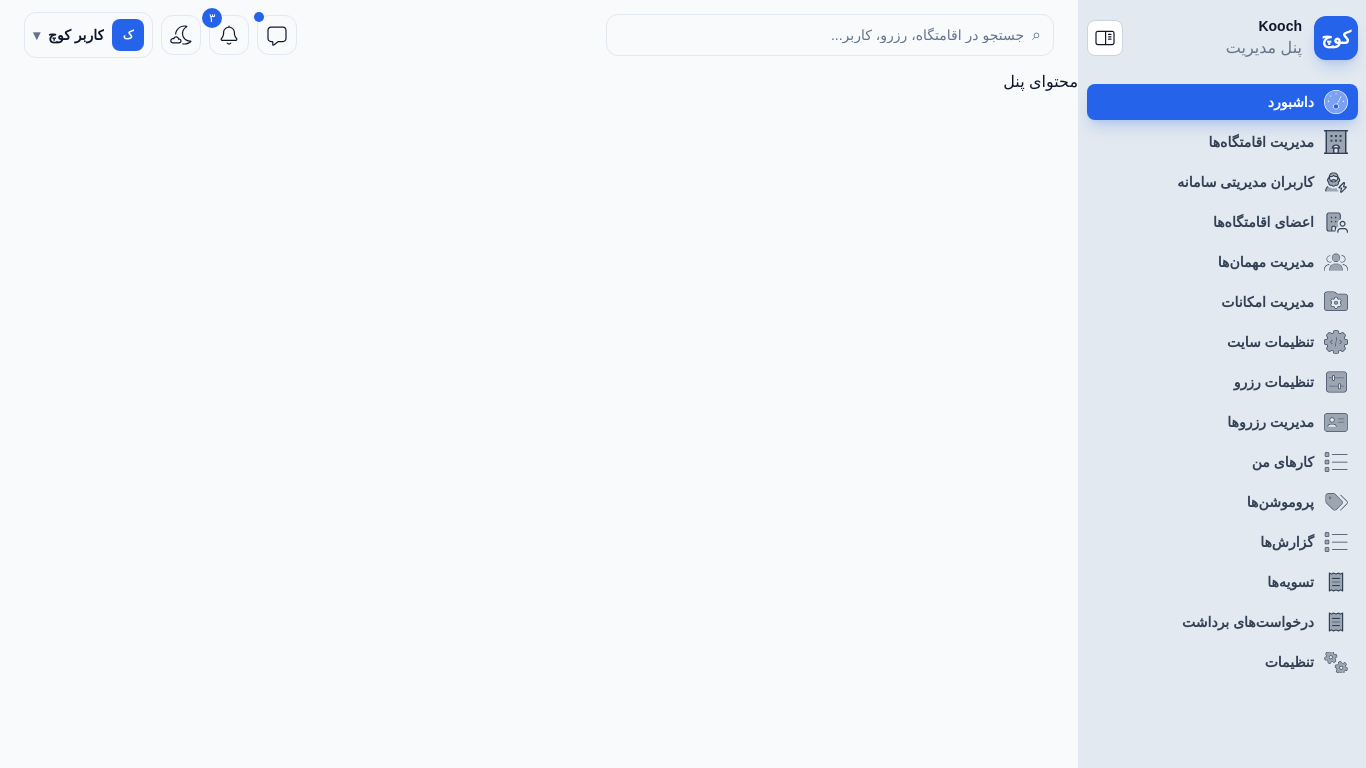
Dashboard notification inbox › loads authoritative unread count and first page, without mock content or deep links
This screenshot has width=1366, height=768.
Click the button named "اعلان‌ها" at (229, 35), box x1=209 y1=15 x2=249 y2=55
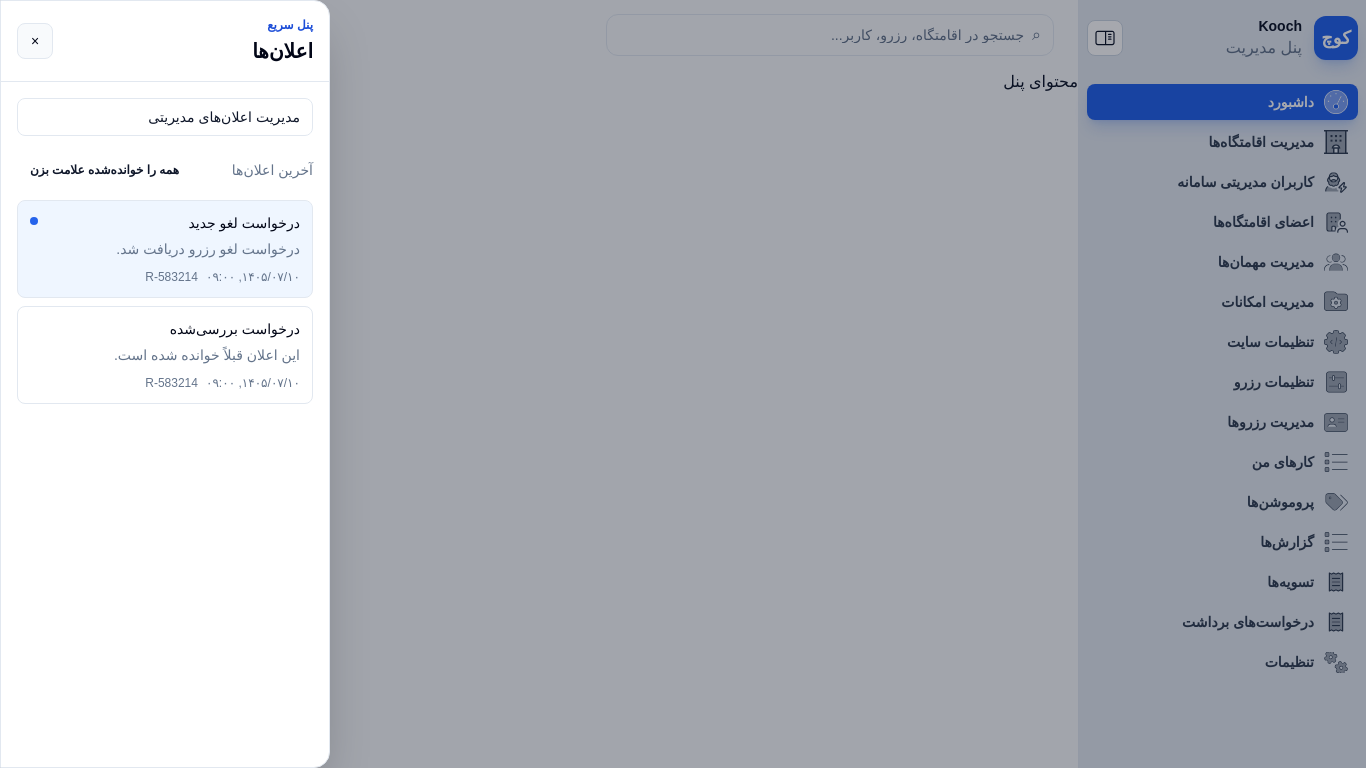
Check: the text "درخواست لغو جدید" is shown, box x1=188 y1=213 x2=300 y2=233
Check: the text "درخواست لغو رزرو دریافت شد." is shown, box x1=116 y1=241 x2=300 y2=257
Check: the text "درخواست بررسی‌شده" is shown, box x1=170 y1=319 x2=300 y2=339
